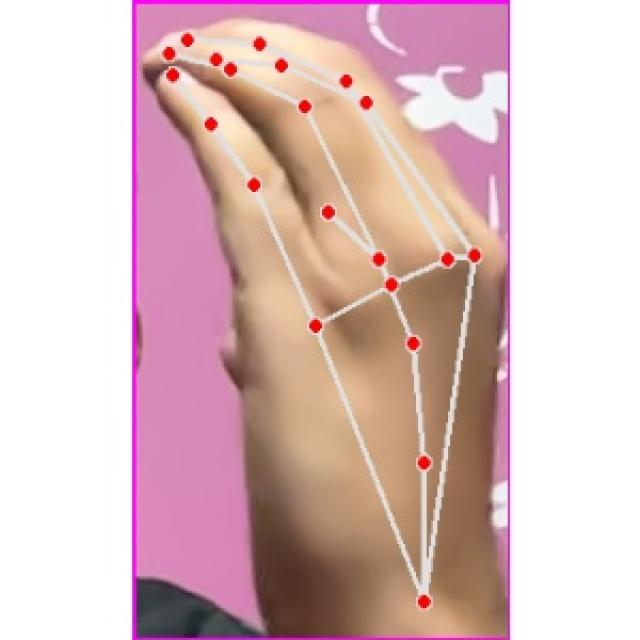C: (141, 25, 510, 640)
